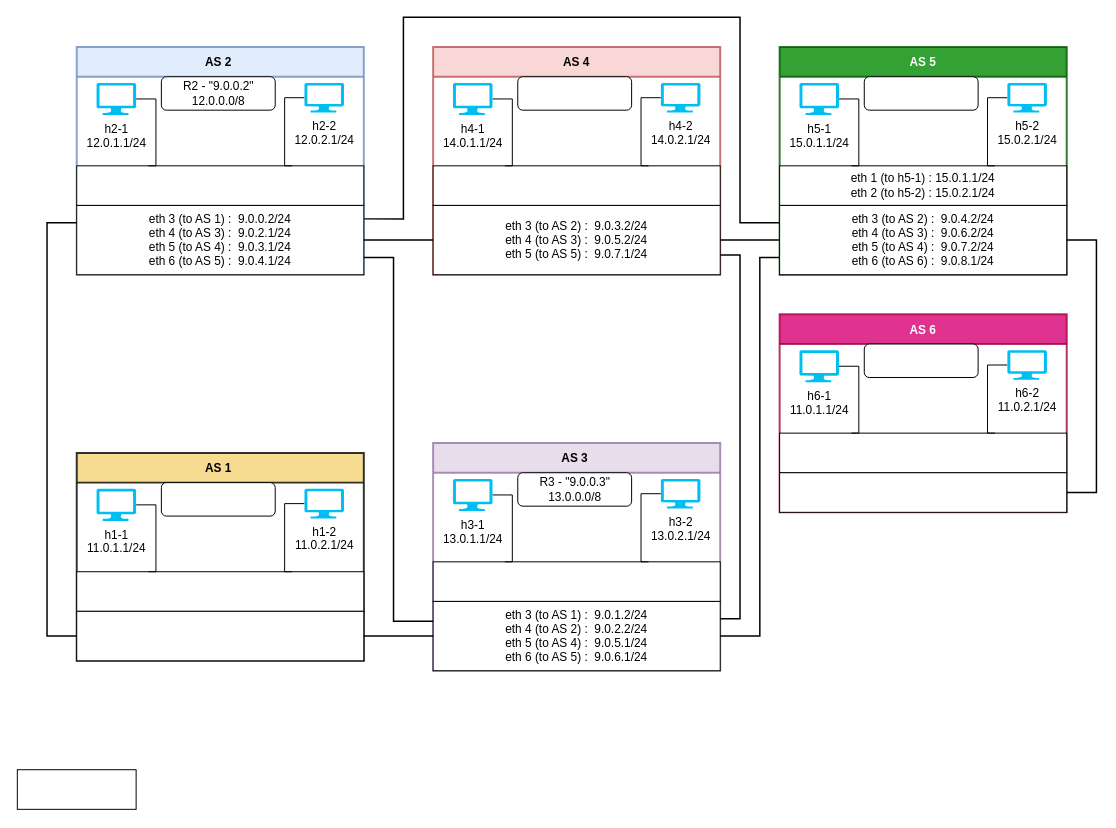
Some shapes in this 1116 by 828 pixel diagram are drawn without their labels. The shapes that lost their labels are listed below. From the top down, each one's centre as x and y in pixels, then its label:
(x=574, y=93): R4 - "9.0.0.4" 14.0.0.0/8
(x=920, y=93): R5 - "9.0.0.5" 15.0.0.0/8
(x=220, y=185): eth 1 (to h2-1) : 12.0.1.1/24 eth 2 (to h2-2) : 12.0.2.1/24
(x=576, y=185): eth 1 (to h4-1) : 14.0.1.1/24 eth 2 (to h4-2) : 14.0.2.1/24
(x=920, y=360): R6 - "9.0.0.6" 11.0.0.0/8
(x=923, y=452): eth 1 (to h6-1) : 16.0.1.1/24 eth 2 (to h6-2) : 16.0.2.1/24
(x=217, y=499): R1 - "9.0.1.1" 11.0.0.0/8
(x=923, y=492): eth 3 (to AS 5) : 9.0.8.2/24
(x=220, y=591): eth 1 (to h1-1) : 11.0.1.1/24 eth 2 (to h1-2) : 11.0.2.1/24
(x=576, y=581): eth 1 (to h3-1) : 13.0.1.1/24 eth 2 (to h3-2) : 13.0.2.1/24
(x=220, y=635): eth 3 (to AS 2) : 9.0.0.1/24 eth 4 (to AS 3) : 9.0.1.1/24
(x=76, y=789): CN6250 Spring 2022 GT ID: fyu66
